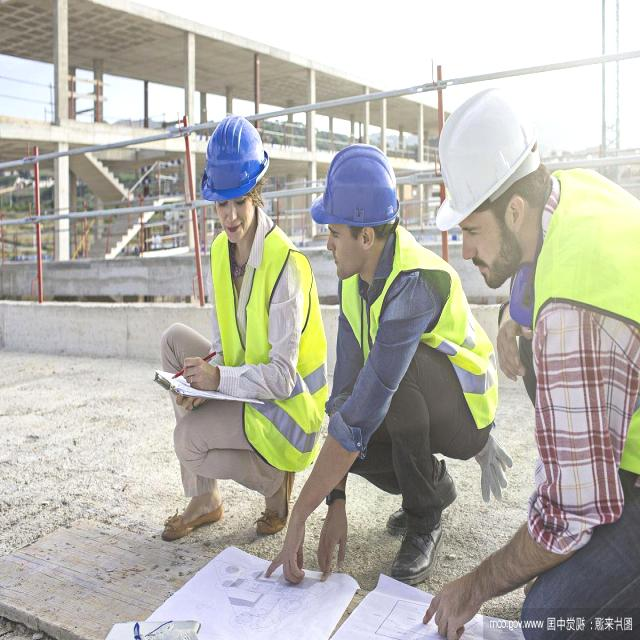face_nomask: (458, 187, 522, 291), (325, 220, 369, 284), (216, 190, 259, 248)
hand_glove: (473, 433, 509, 513)
hand_noglove: (426, 566, 477, 640), (265, 512, 310, 590), (314, 504, 354, 586), (177, 353, 221, 399)
head_helmet: (434, 84, 539, 234), (310, 144, 400, 228), (200, 115, 270, 202)
person: (436, 72, 640, 629), (297, 145, 484, 576), (155, 117, 317, 534)
vest: (512, 183, 640, 466), (211, 237, 321, 455), (339, 274, 495, 425)
